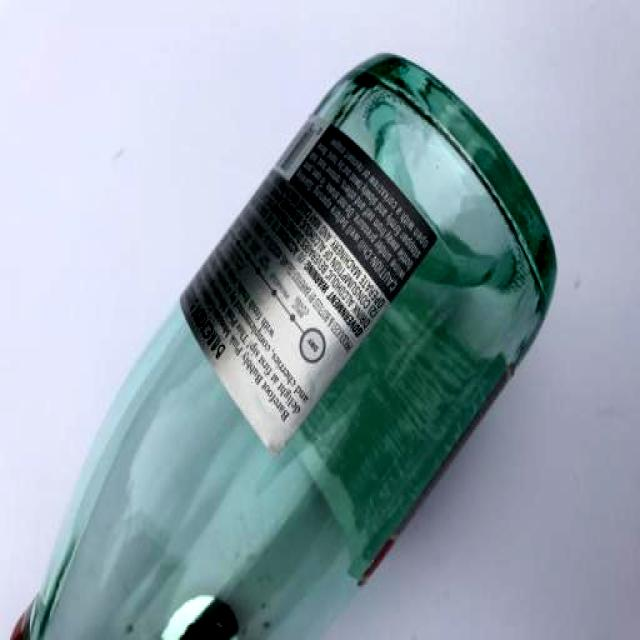Glass: (2, 22, 570, 640)
